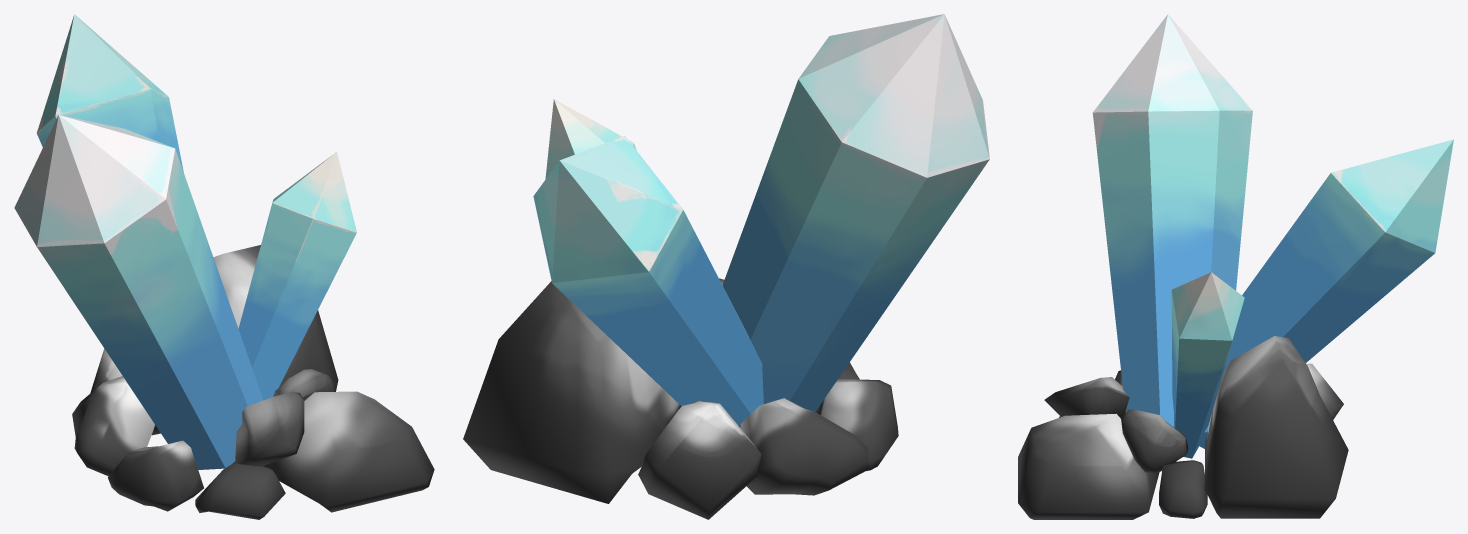
Rendered from Cristales.fbx.
3 renders of one model, left to right at view 1: azimuth 30°, elevation 25°; view 2: azimuth 150°, elevation 25°; view 3: azimuth 270°, elevation 25°, orthographic. The views are drawn at different scales.
Parts seen in each view (by area): view 1: Circle, Circle.002, Cube, Circle.001, Cube.007, Cube.006, Cube.002, Cube.003, Cube.001, Cube.005, Cube.008; view 2: Circle, Circle.001, Cube.003, Cube.008, Cube.007, Cube.006, Circle.002; view 3: Circle, Circle.001, Cube.003, Cube, Circle.002, Cube.005, Cube.004, Cube.002, Cube.008.
Part boxes in pixels (left/top/right/bottom): Circle: left=14, top=115, right=263, bottom=469; Circle.002: left=238, top=152, right=356, bottom=400; Cube: left=263, top=391, right=434, bottom=512; Circle.001: left=36, top=14, right=183, bottom=172; Cube.007: left=72, top=376, right=154, bottom=476; Cube.006: left=108, top=440, right=203, bottom=511; Cube.002: left=235, top=391, right=304, bottom=466; Cube.003: left=213, top=245, right=338, bottom=391; Cube.001: left=195, top=462, right=285, bottom=519; Cube.005: left=273, top=369, right=334, bottom=400; Cube.008: left=90, top=348, right=160, bottom=435; Circle: left=722, top=14, right=989, bottom=411; Circle.001: left=533, top=136, right=763, bottom=425; Cube.003: left=463, top=281, right=681, bottom=503; Cube.008: left=638, top=400, right=761, bottom=519; Cube.007: left=739, top=398, right=868, bottom=495; Cube.006: left=818, top=379, right=898, bottom=470; Circle.002: left=545, top=99, right=636, bottom=179; Circle: left=1092, top=14, right=1252, bottom=432; Circle.001: left=1199, top=139, right=1453, bottom=448; Cube.003: left=1205, top=336, right=1348, bottom=518; Cube: left=1018, top=413, right=1159, bottom=519; Circle.002: left=1171, top=272, right=1244, bottom=458; Cube.005: left=1121, top=409, right=1188, bottom=473; Cube.004: left=1159, top=460, right=1207, bottom=518; Cube.002: left=1044, top=377, right=1129, bottom=418; Cube.008: left=1306, top=363, right=1343, bottom=419.
Size of the model in its own units: 230 by 257 by 271.
1 material, 1 textured.
